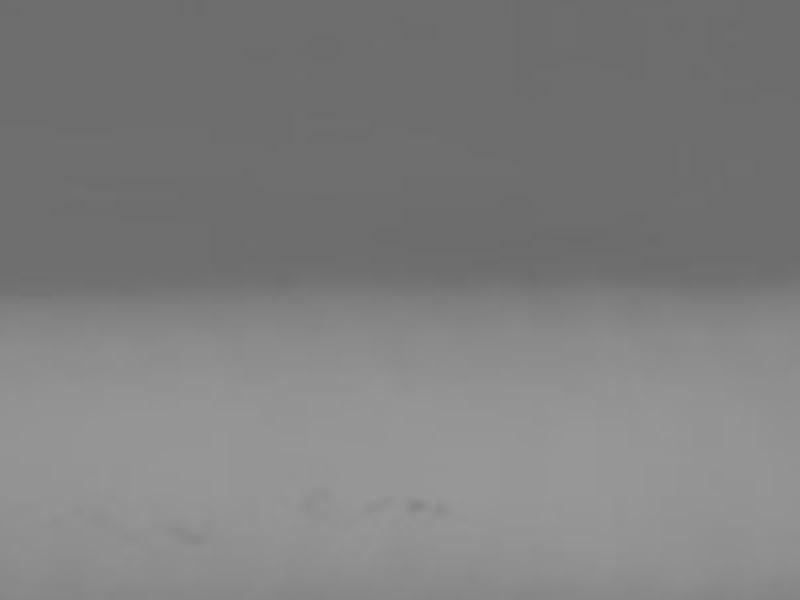defect: (407, 497, 432, 514)
